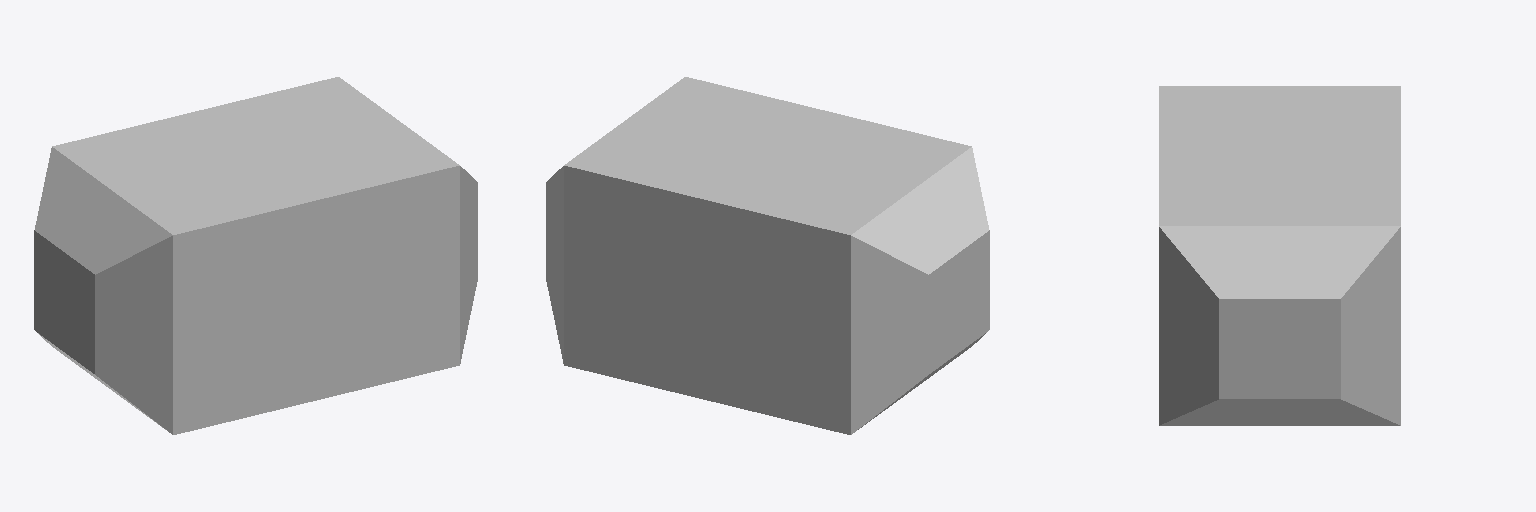
File: submarine.obj
3 renders of one model, left to right at view 1: azimuth 30°, elevation 25°; view 2: azimuth 150°, elevation 25°; view 3: azimuth 270°, elevation 25°, orthographic.
Bounding box in the file's own units: 0.25 × 0.125 × 0.1375.